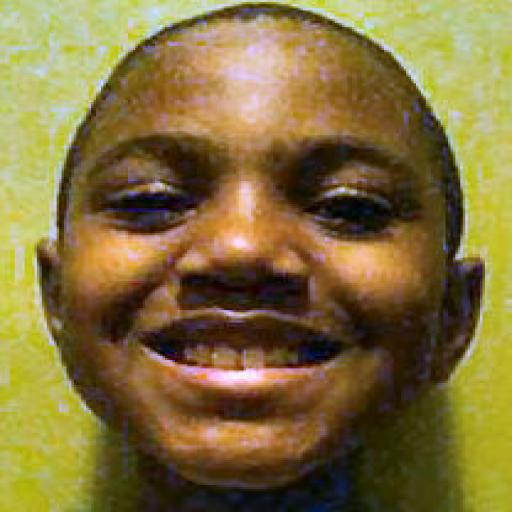Autism: (74, 10, 502, 512)
